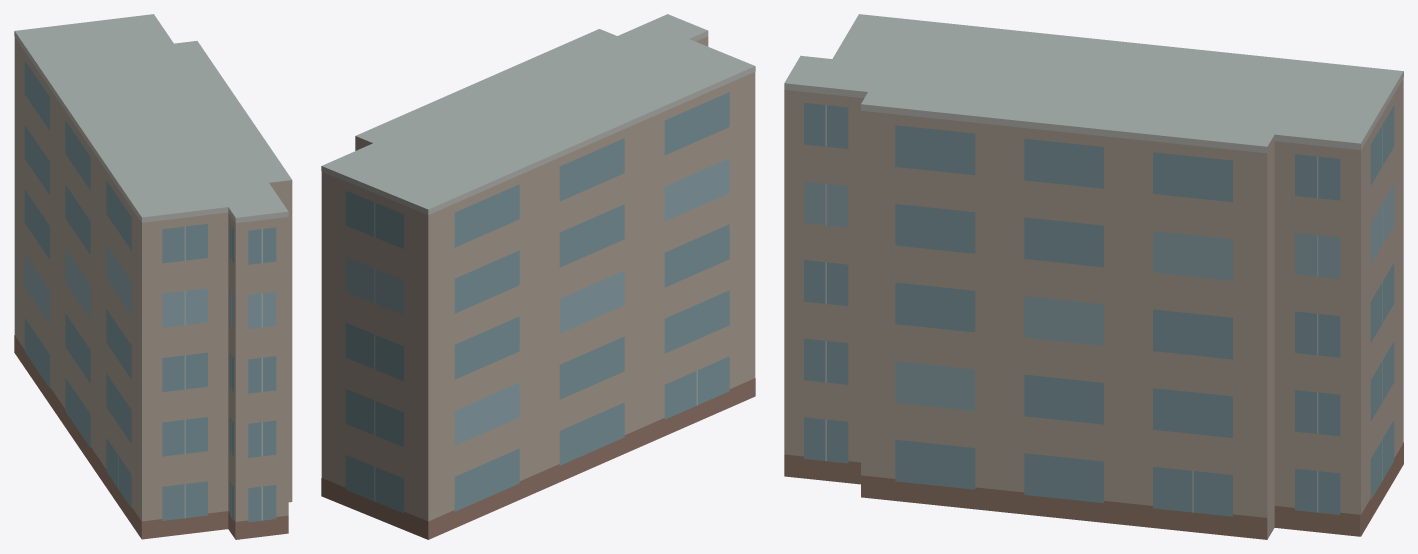
The model's file is survey-upis-33047018.glb.
3 views of the same model, side by side, from view 1: azimuth 30°, elevation 25°; view 2: azimuth 150°, elevation 25°; view 3: azimuth 270°, elevation 25° (orthographic). The views are drawn at different scales.
Visible parts, largest first — view 1: survey-upis-33047018.tmp; view 2: survey-upis-33047018.tmp; view 3: survey-upis-33047018.tmp.
Boxes of the visible parts, <box> form: survey-upis-33047018.tmp: <box>14,14,292,539</box>; survey-upis-33047018.tmp: <box>321,14,755,539</box>; survey-upis-33047018.tmp: <box>784,14,1403,539</box>.
Size of the model in its own units: 10.58 by 14.6 by 20.86.
